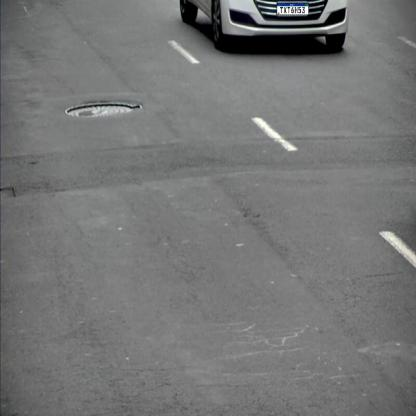PlacaM: (277, 3, 309, 15)
